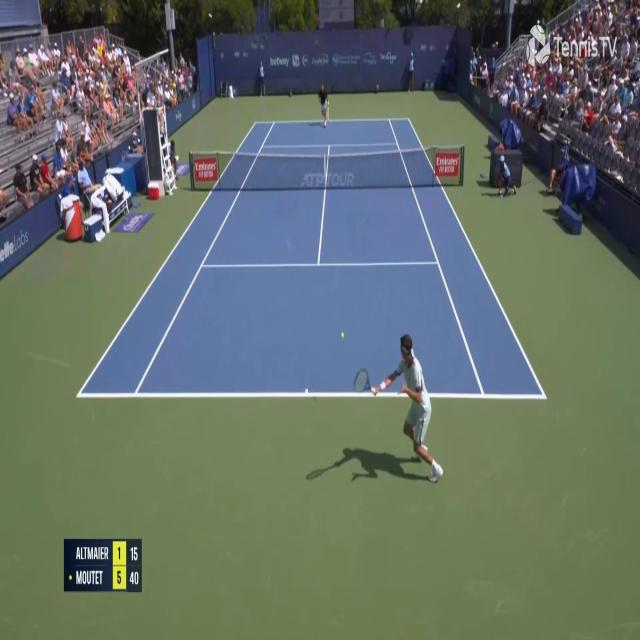tennis-player: (349, 329, 445, 485), (315, 80, 331, 128)
